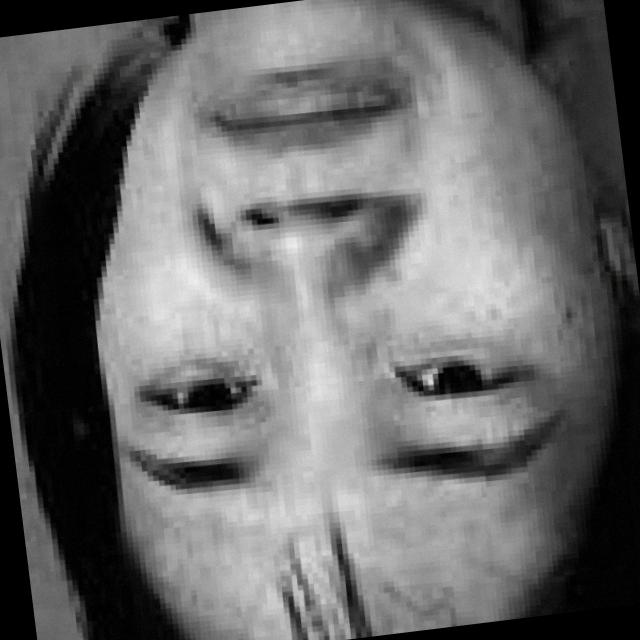disgust: (32, 0, 569, 625)
